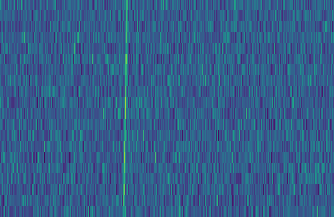signal: (118, 0, 130, 217)
